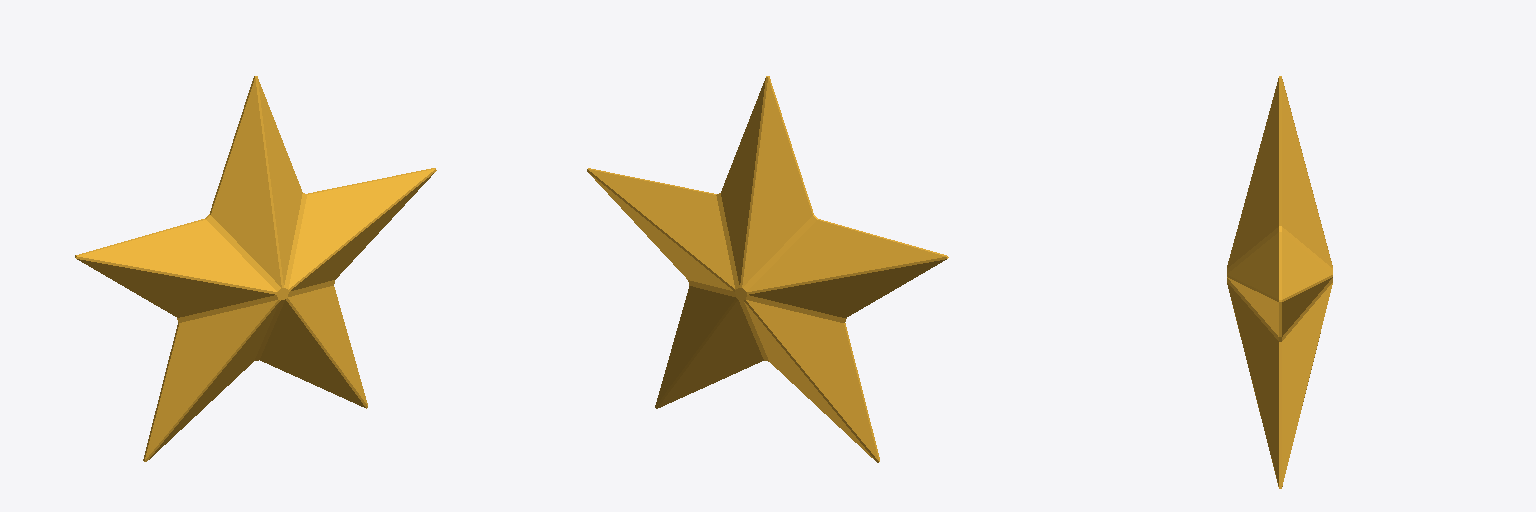
The model's file is star.obj.
3 renders of one model, left to right at view 1: azimuth 30°, elevation 25°; view 2: azimuth 150°, elevation 25°; view 3: azimuth 270°, elevation 25°, orthographic.
Parts seen in each view (by area): view 1: Cylinder01; view 2: Cylinder01; view 3: Cylinder01.
Part boxes in pixels (x1,y1,x2,y2): Cylinder01: (75, 76, 436, 461); Cylinder01: (587, 76, 948, 462); Cylinder01: (1227, 76, 1332, 488).
Bounding box in the file's own units: 150 × 142 × 38.27.